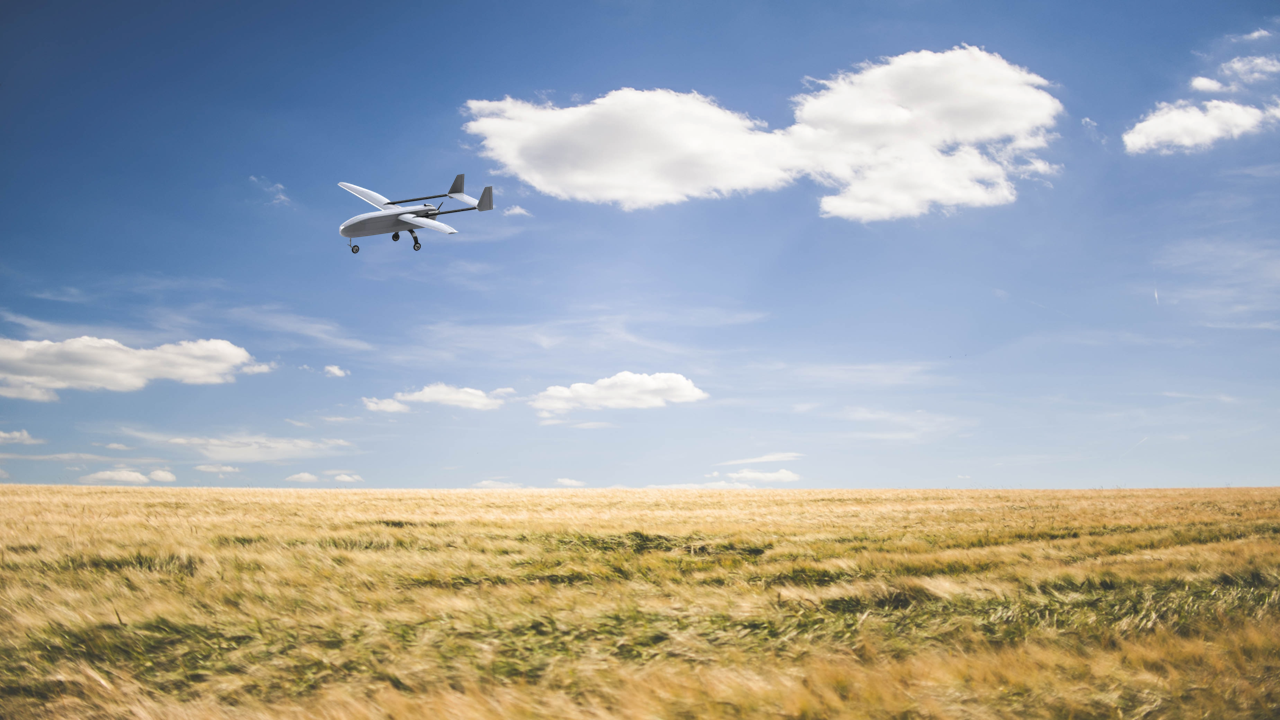military drone: (337, 173, 493, 254)
